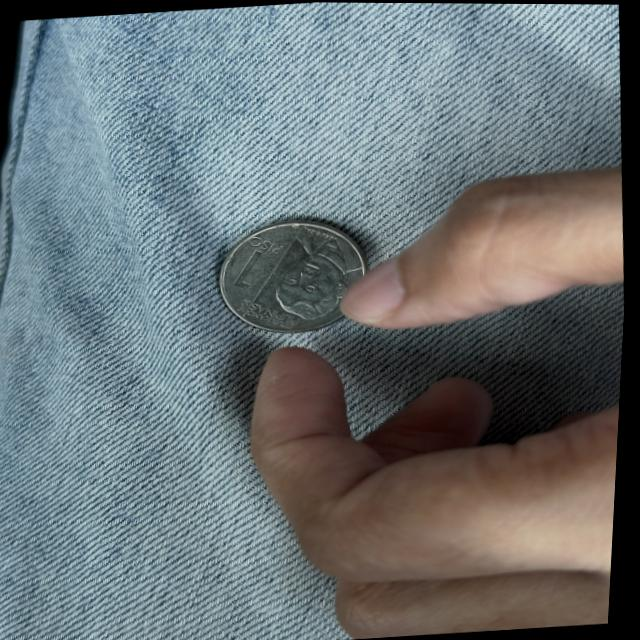1_New_Front: (233, 235, 286, 297)
